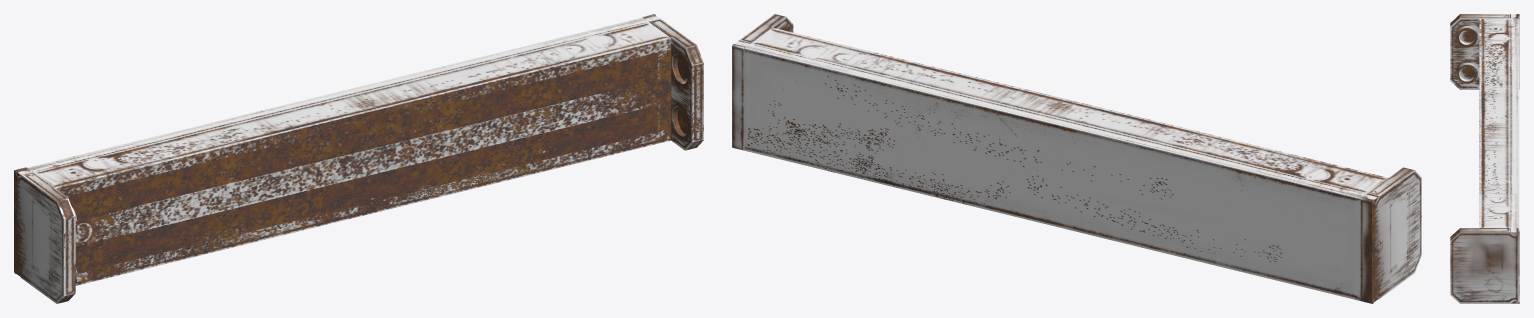
The model's file is Fluorecent_Light_Case_LP.obj.
3 renders of one model, left to right at view 1: azimuth 30°, elevation 25°; view 2: azimuth 150°, elevation 25°; view 3: azimuth 270°, elevation 25°, orthographic. The views are drawn at different scales.
Parts seen in each view (by area): view 1: object_1; view 2: object_1; view 3: object_1.
Boxes of the visible parts, x1,y1,x2,y2 form: object_1: (14, 14, 703, 303); object_1: (732, 14, 1421, 303); object_1: (1450, 14, 1519, 303).
Size of the model in its own units: 18.05 by 2.78 by 2.43.
1 material, 1 textured.
